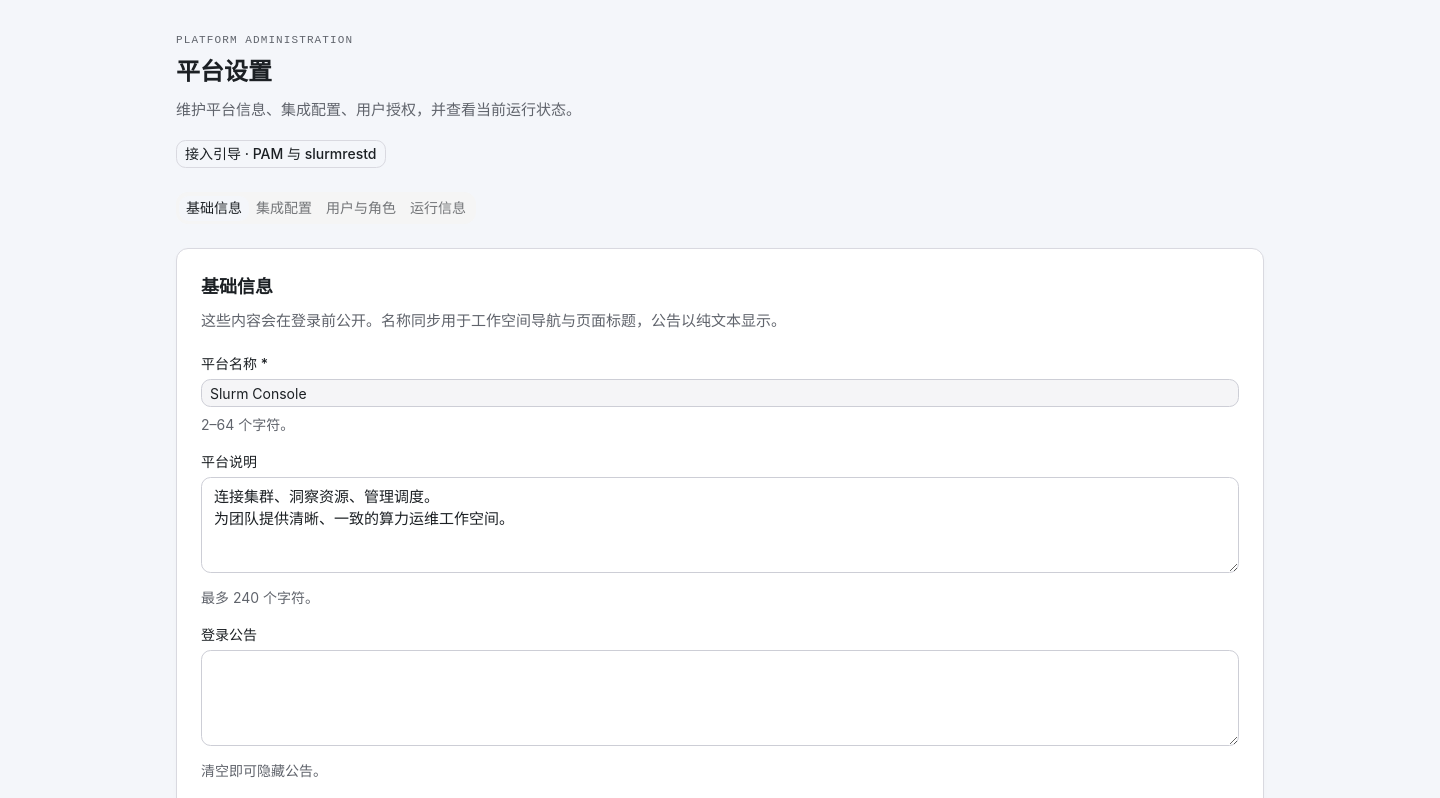
Test: reviews AI configuration and requires exact typed confirmation before a metadata-only save
Check: the field labelled "平台名称 *" is shown, box left=201, top=379, right=1239, bottom=407
Click the tab "集成配置": [284, 208] box left=249, top=196, right=319, bottom=220
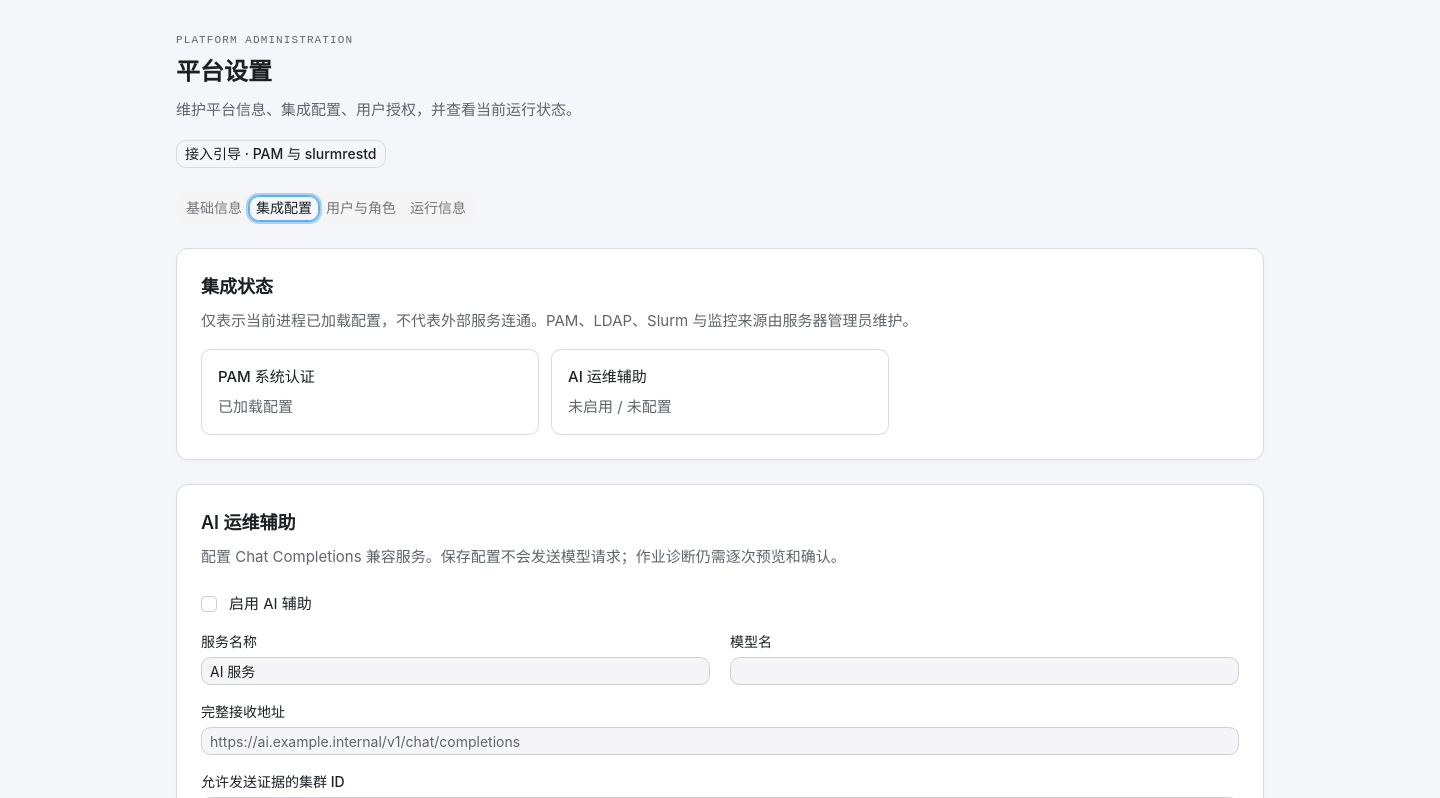
Replace the text in the field labelled "服务名称" with "隔离服务": [456, 671] box left=201, top=657, right=710, bottom=685
(page scrolled)
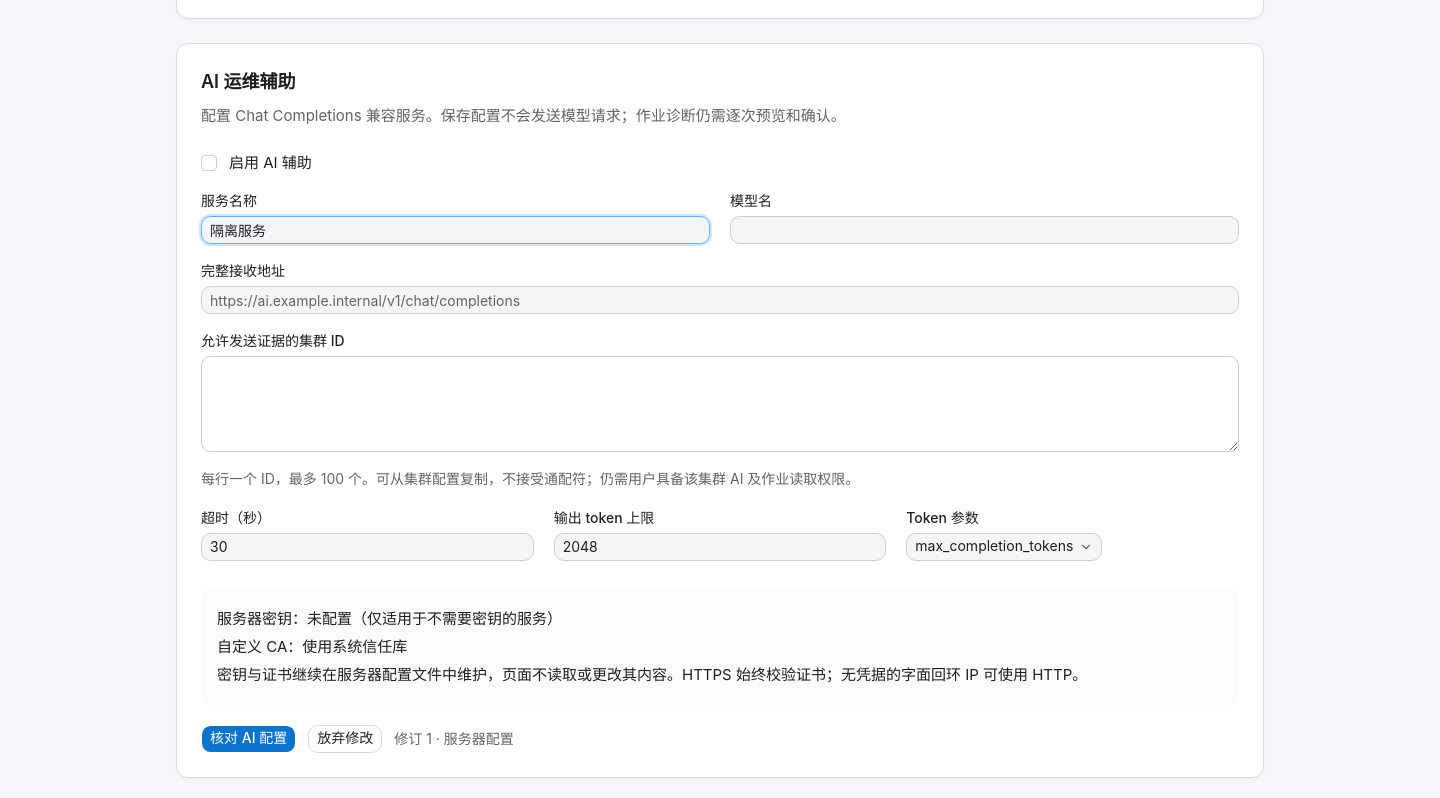
Click the button "核对 AI 配置": [249, 739] box left=201, top=725, right=296, bottom=753
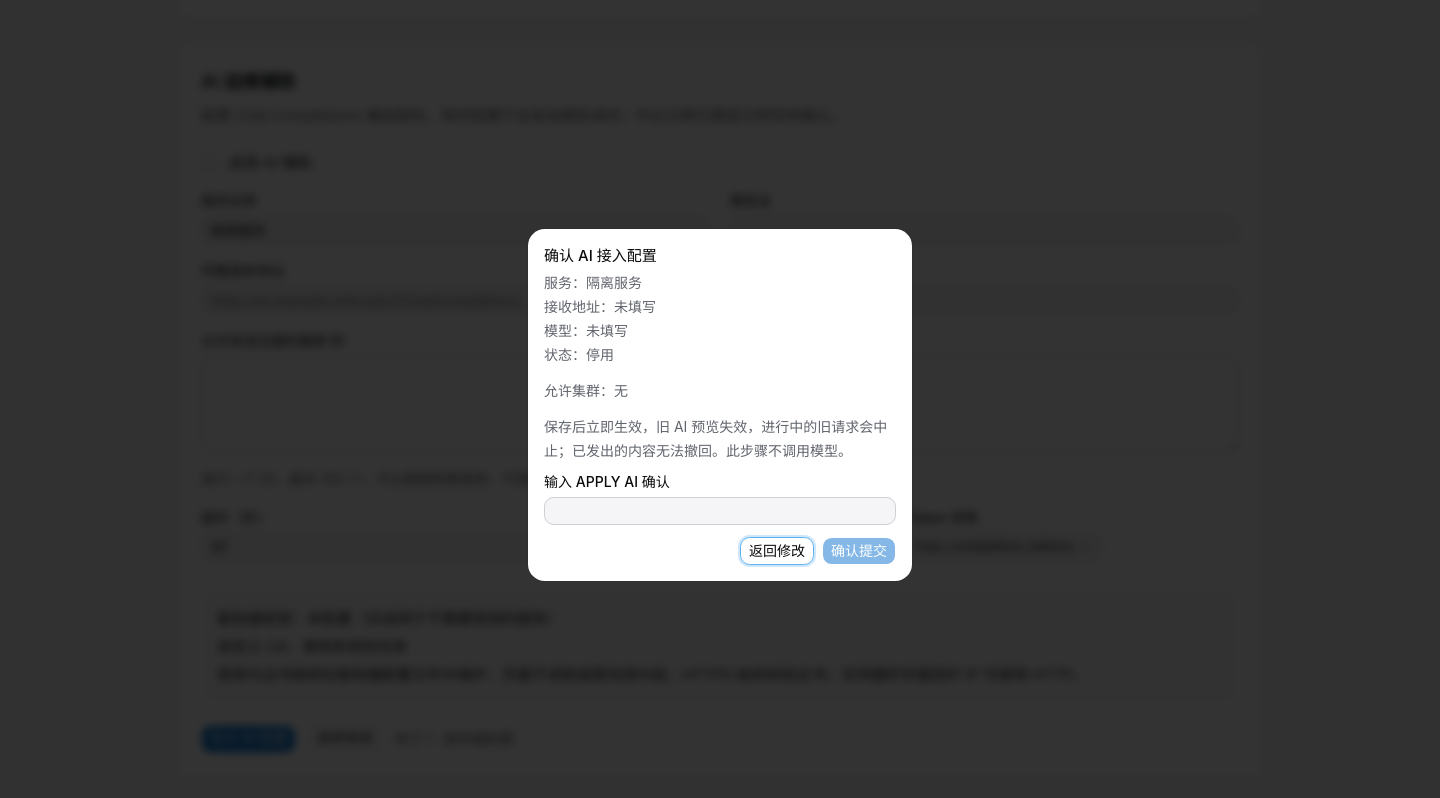
Check: the dialog shows "此步骤不调用模型", box left=544, top=418, right=887, bottom=459
Check: the button "确认提交" is disabled, box left=822, top=537, right=896, bottom=565
In the field labelled "输入 APPLY AI 确认": [720, 511] box left=544, top=497, right=896, bottom=525, type "APPLY AI"
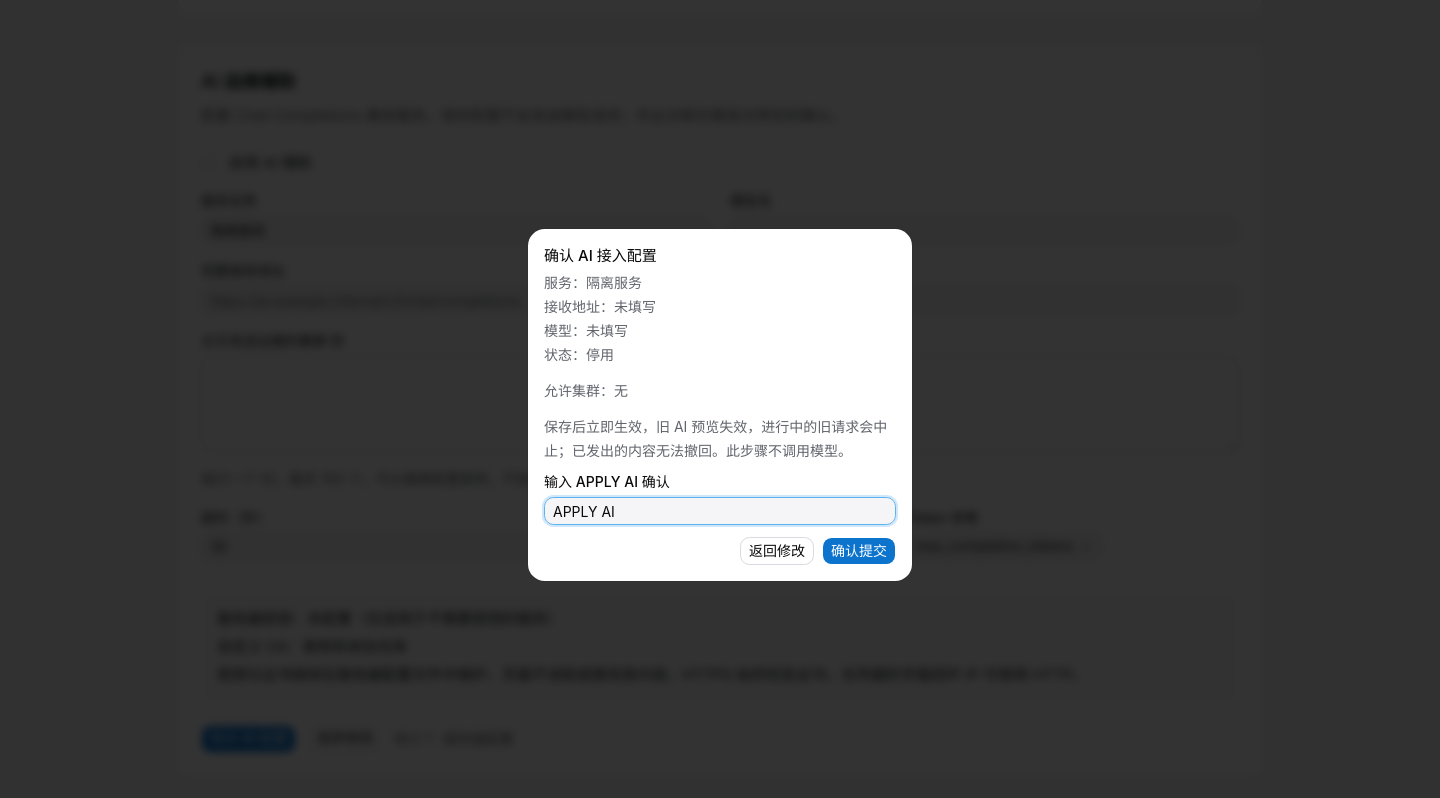
Click the button "确认提交": [859, 551] box left=822, top=537, right=896, bottom=565
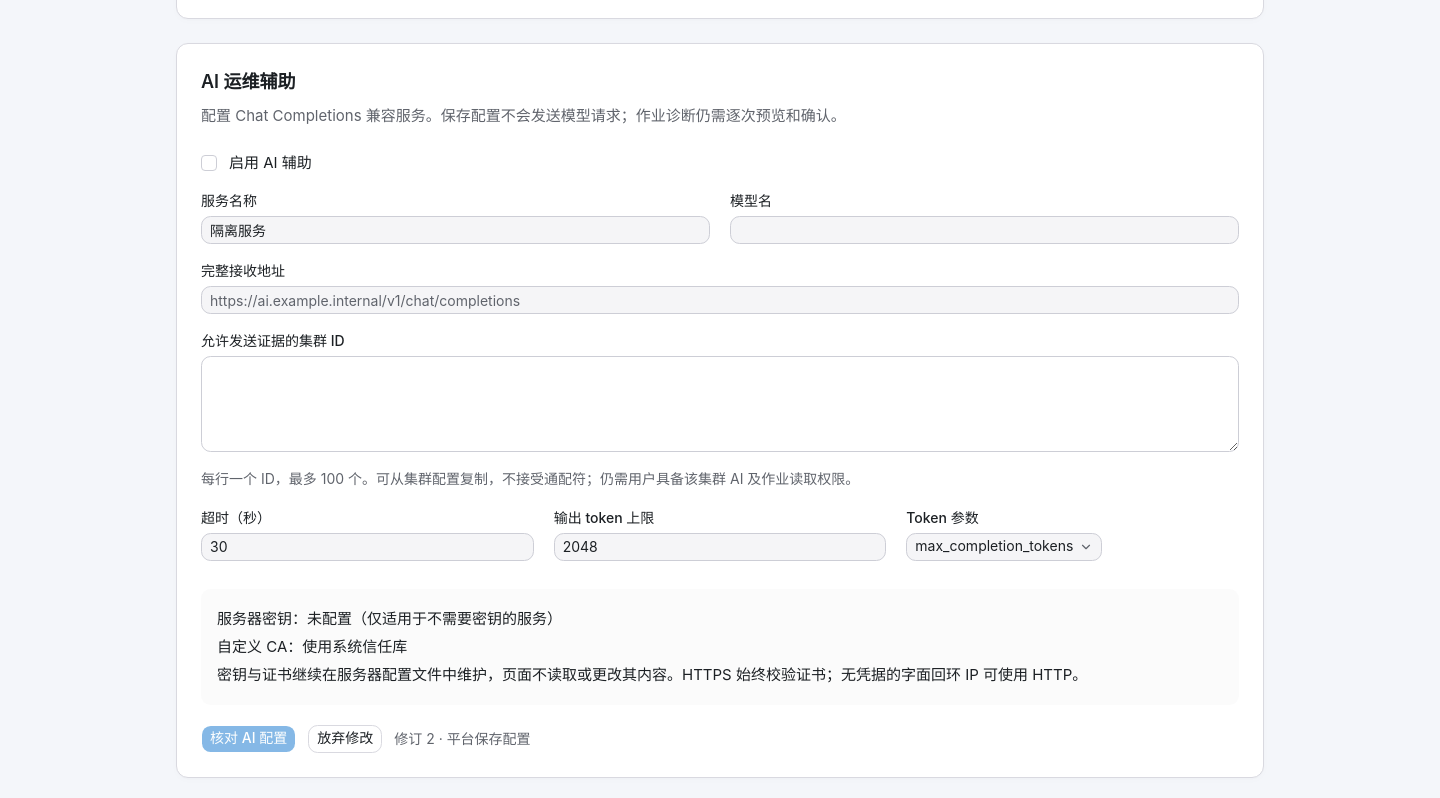
Check: the text "修订 2 · 平台保存配置" is shown, box left=394, top=729, right=531, bottom=749
